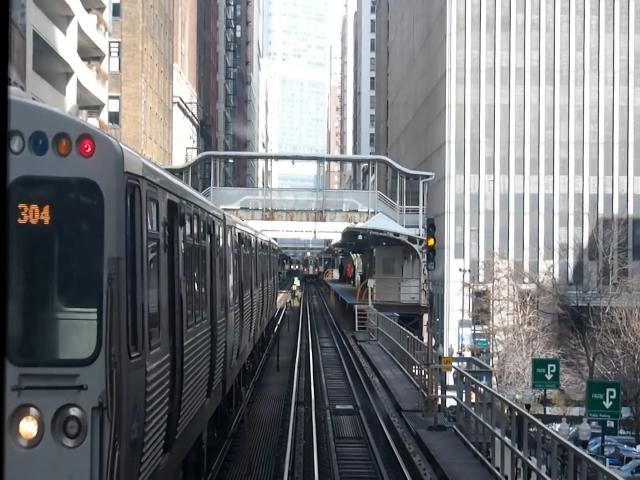signal light: (428, 217, 439, 273)
